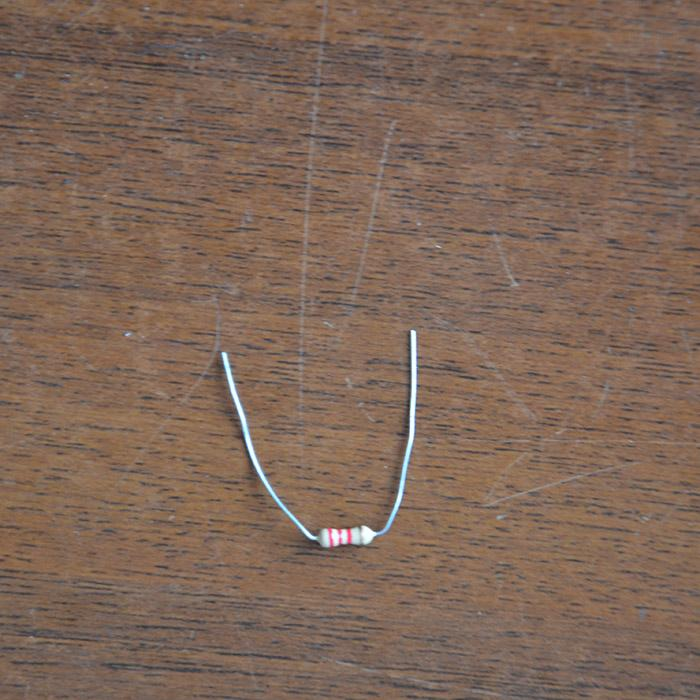resistor: (317, 524, 376, 548)
